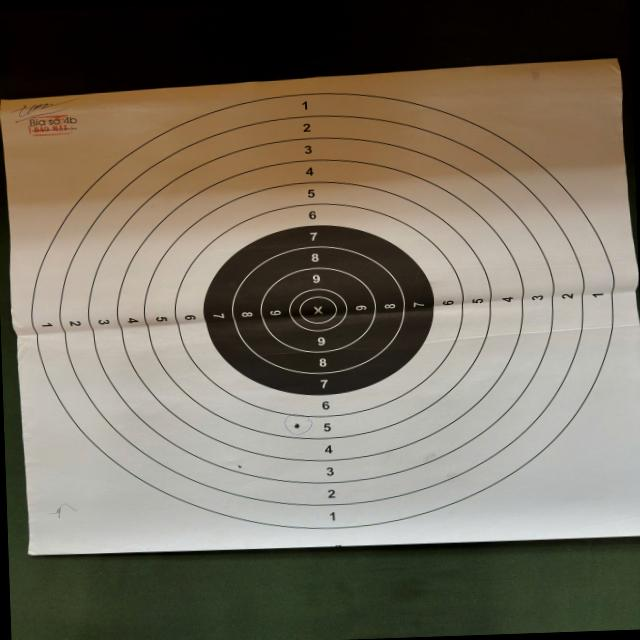bullet: (292, 421, 299, 429), (237, 463, 241, 471)
target: (0, 62, 639, 554)
